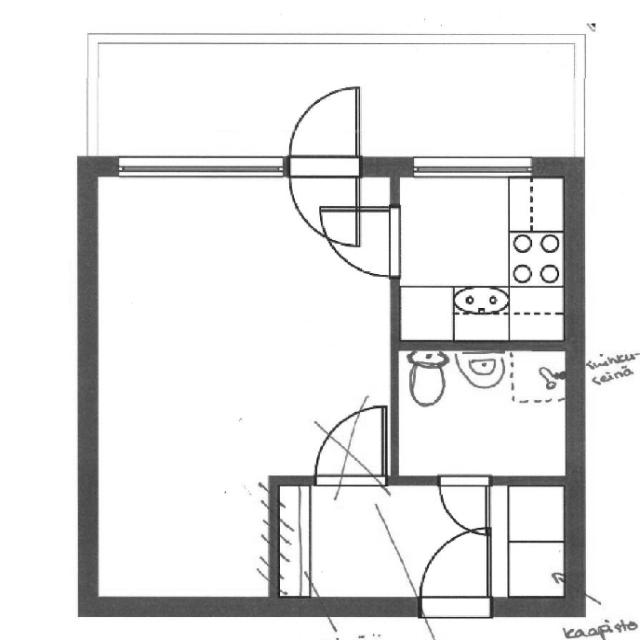door: (287, 171, 363, 252), (420, 524, 494, 607), (316, 204, 396, 278), (287, 87, 357, 161), (434, 474, 493, 540)
window: (117, 155, 286, 174), (410, 157, 540, 180), (385, 202, 408, 284)
zone: (82, 167, 398, 478), (392, 174, 573, 346), (276, 484, 491, 605), (394, 348, 572, 476), (492, 480, 568, 604)
